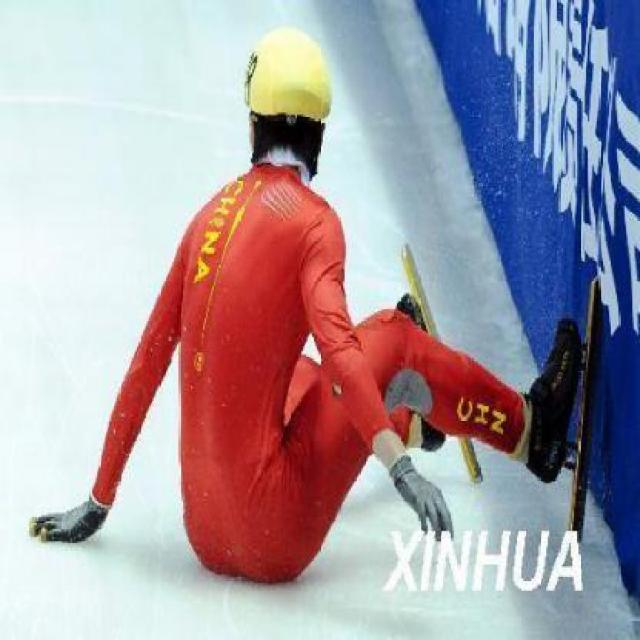fall: (2, 18, 624, 600)
